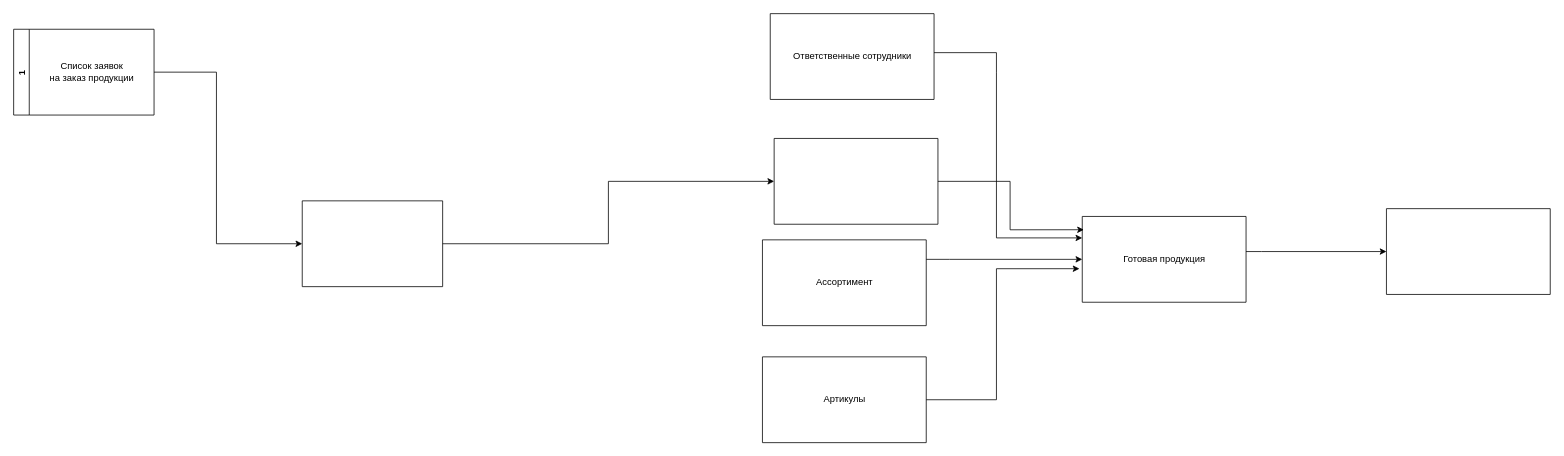
The diagram is 1564 pixels wide and 456 high, and some of its shapes have lost their labels. Here are the shapes that lost their labels. From the top down, the centre of each, then its label:
At pixel 855 181: "Список сырья на складе".
At pixel 372 243: "База поставщиков".
At pixel 1468 251: "Покупатели".
